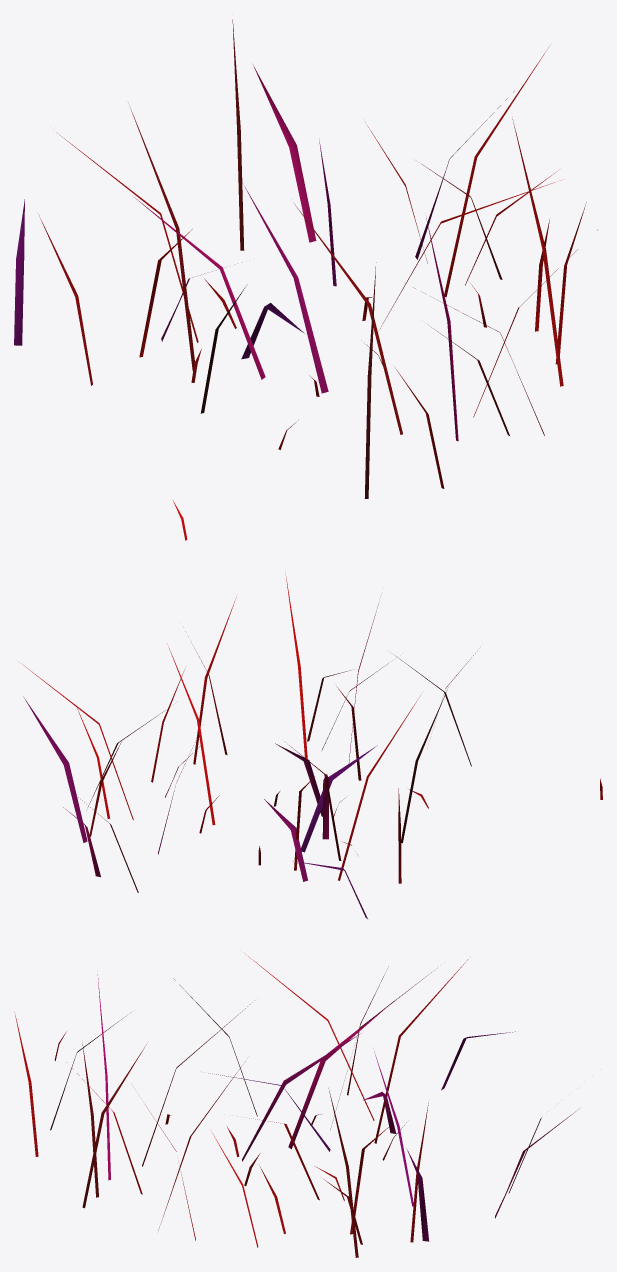
Rendered from GrassTuft2.glb.
3 views of the same model, one above another, from view 1: azimuth 30°, elevation 25°; view 2: azimuth 150°, elevation 25°; view 3: azimuth 270°, elevation 25° (orthographic). The views are drawn at different scales.
Visible parts, largest first — view 1: GrassTuft2_lod0; view 2: GrassTuft2_lod0; view 3: GrassTuft2_lod0.
Part boxes in pixels (bbox=[...]): GrassTuft2_lod0: bbox=[14, 19, 597, 540]; GrassTuft2_lod0: bbox=[19, 572, 602, 918]; GrassTuft2_lod0: bbox=[14, 956, 579, 1257].
Size of the model in its own units: 2.25 by 0.8989 by 2.46.
